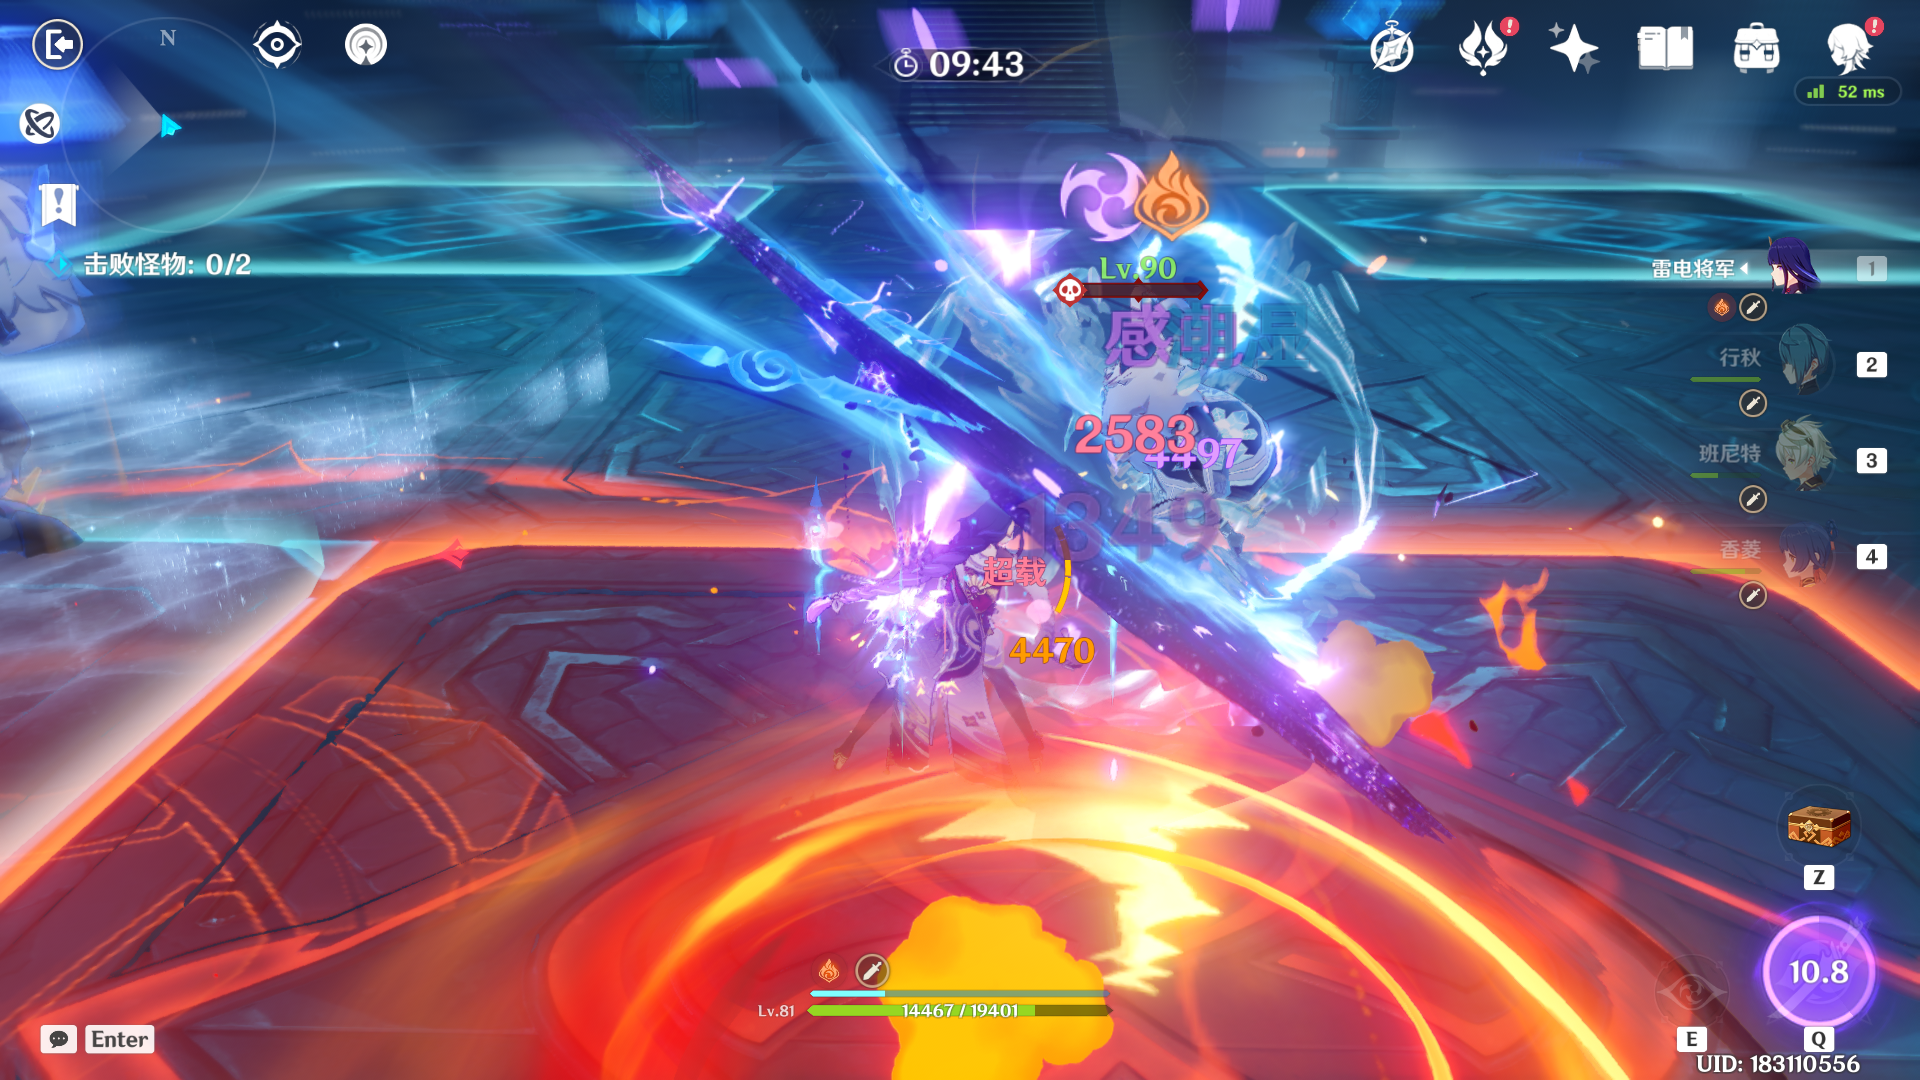caster: (1055, 299, 1302, 562)
character: (808, 458, 1079, 814)
